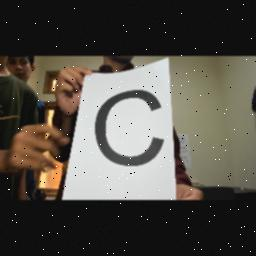c: (92, 88, 166, 168)
